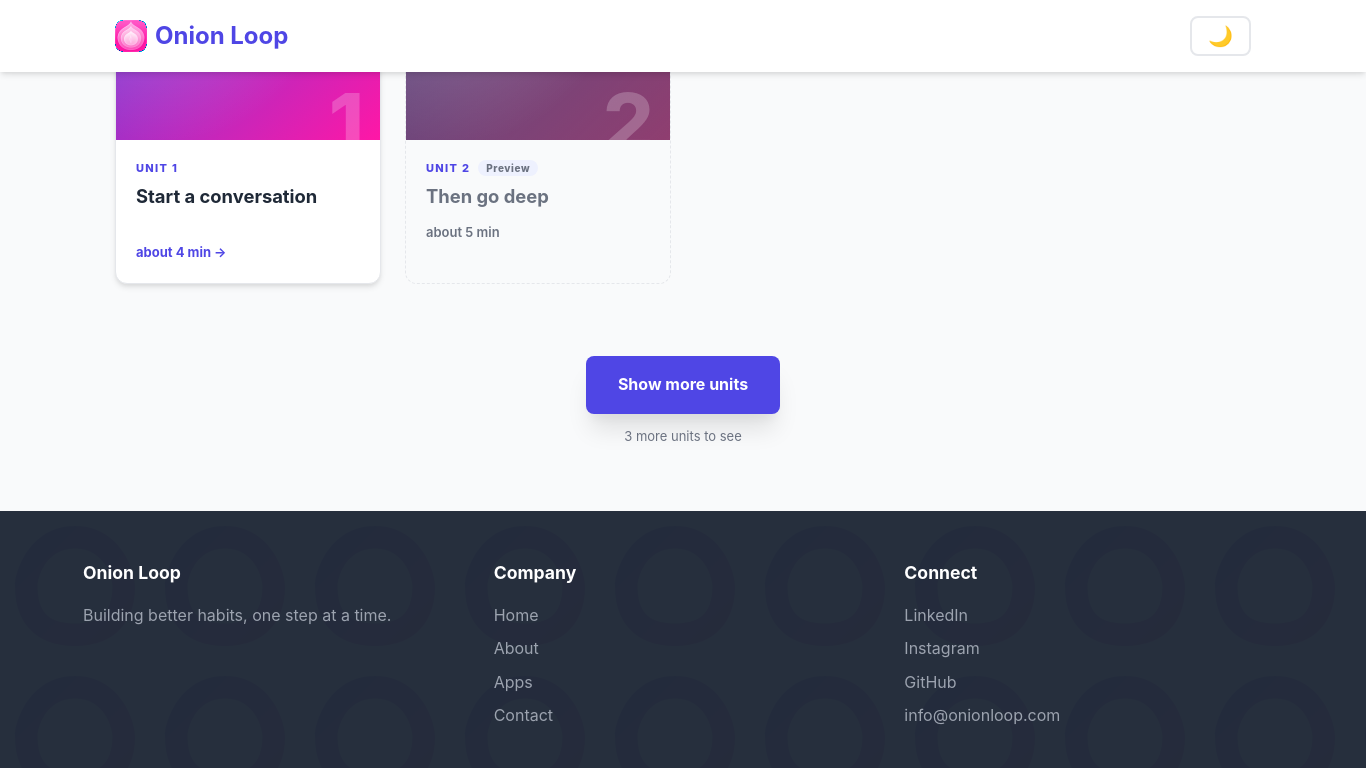
Scenario: the last page lays out all three modules, in order, and takes the button away
This screenshot has width=1366, height=768.
(page scrolled)
Click the button "Show more units" at (683, 385), box [586,356,780,414]
(page scrolled)
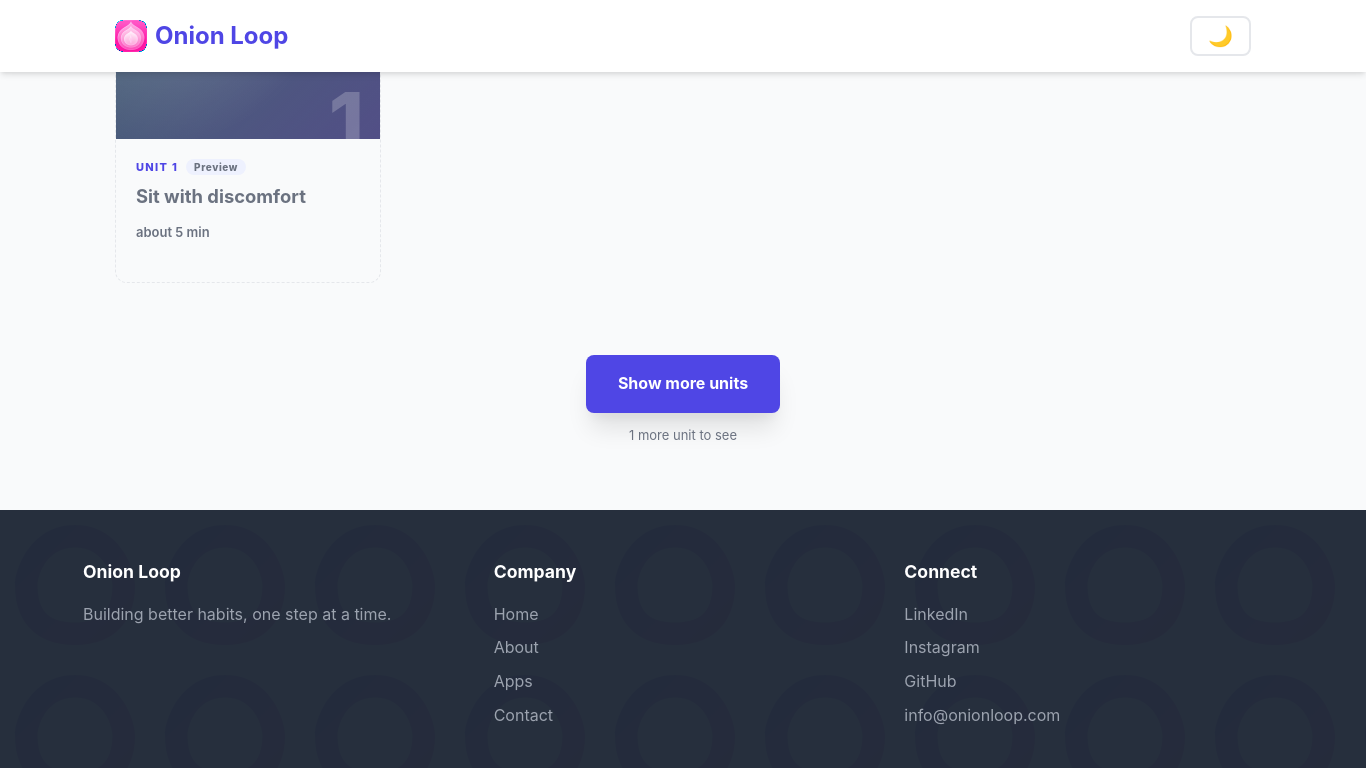
Check: the text "Sit with discomfort" is shown, box [136,184,306,206]
Click the button "Show more units" at (683, 384), box [586,355,780,413]
(page scrolled)
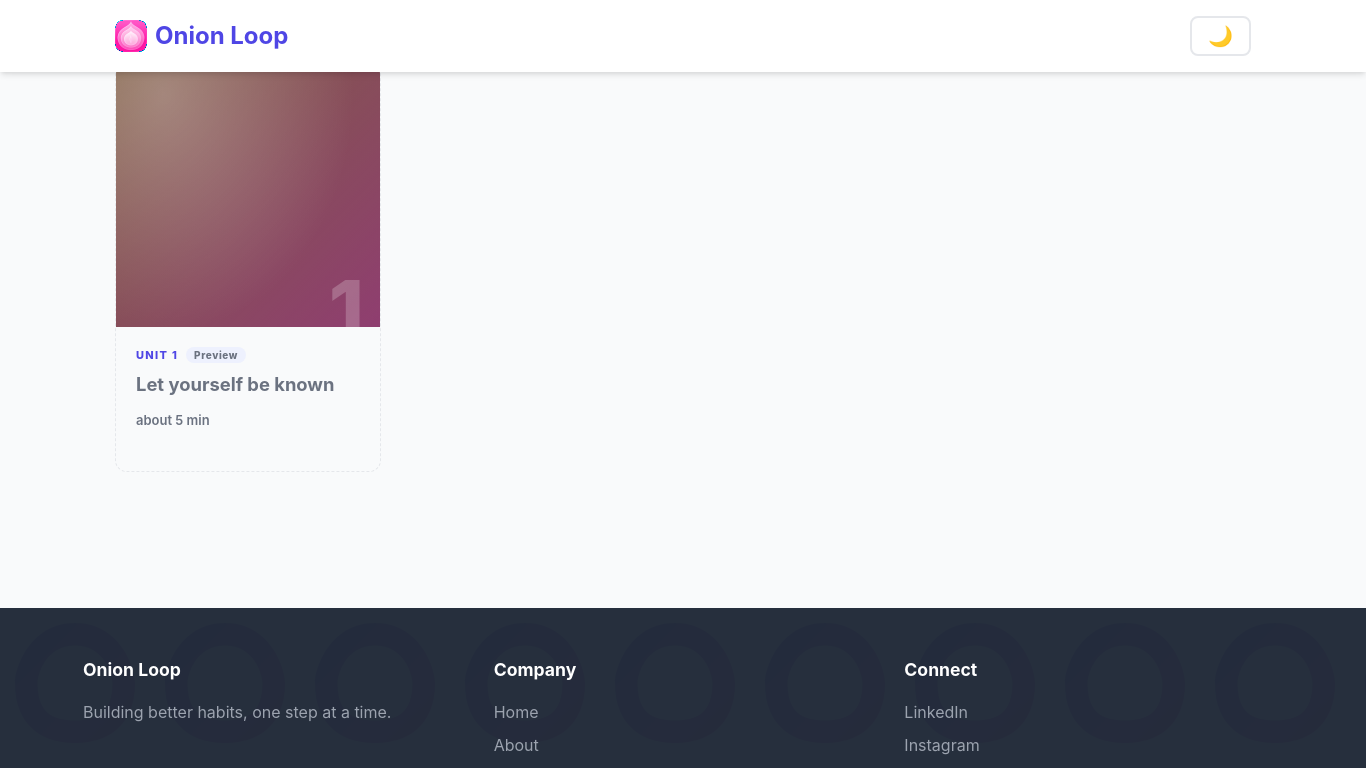
Check: the text "Let yourself be known" is shown, box [136,373,360,396]
Check: the button "Show more units" is gone
Check: the text "to see" is gone
